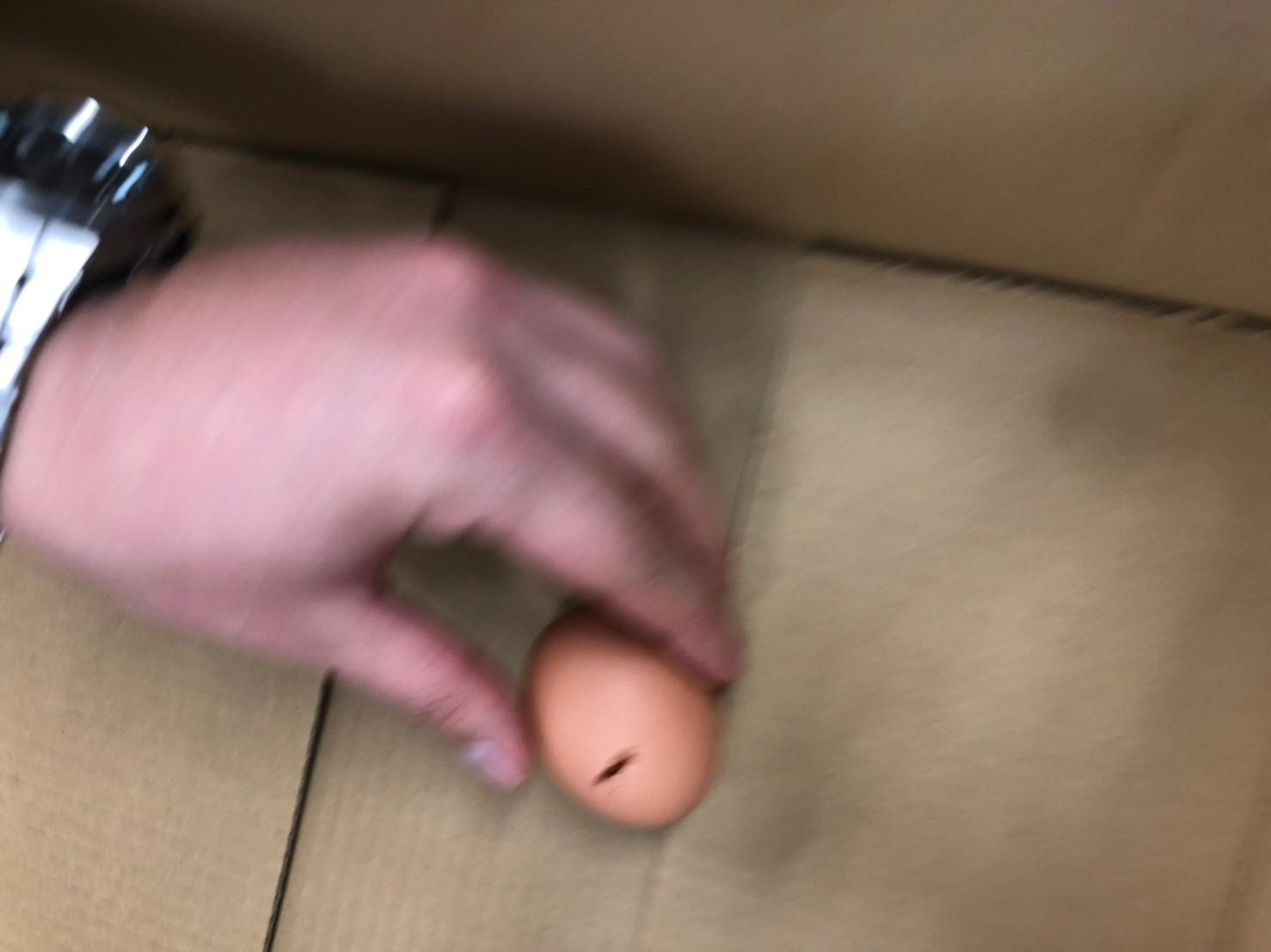egg: (525, 609, 723, 829)
